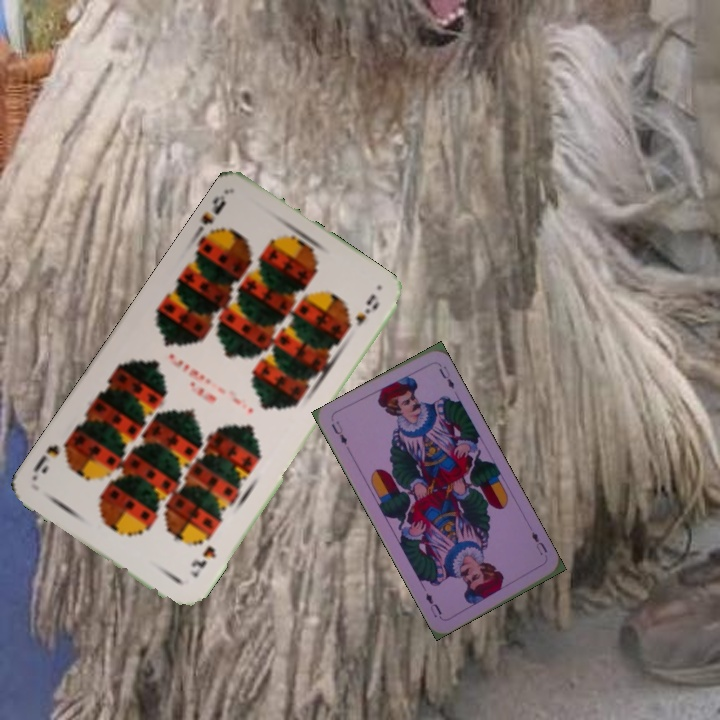EU: (527, 527, 550, 558), (327, 417, 350, 447)
S9: (189, 191, 229, 245), (186, 541, 219, 580)
